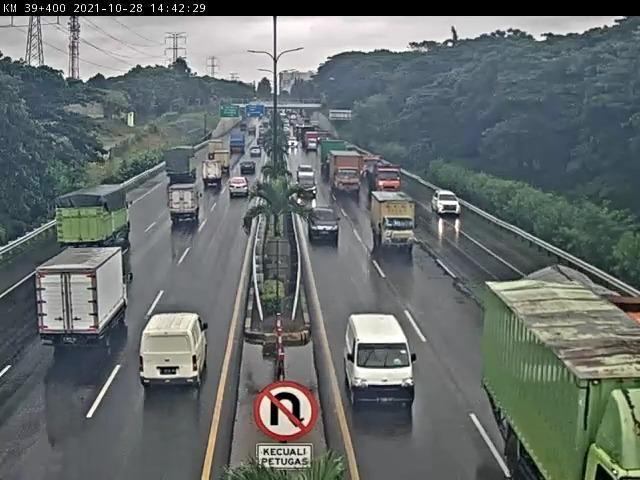car: (134, 311, 212, 395)
